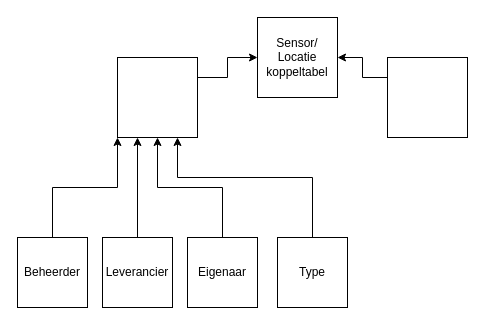
Image size: 485x325. Some labels were removed from this diagram. Each missing label, with the centre of its shape:
"Sensor" goes at (x=157, y=97).
"Sensor Locatie" goes at (x=427, y=97).
